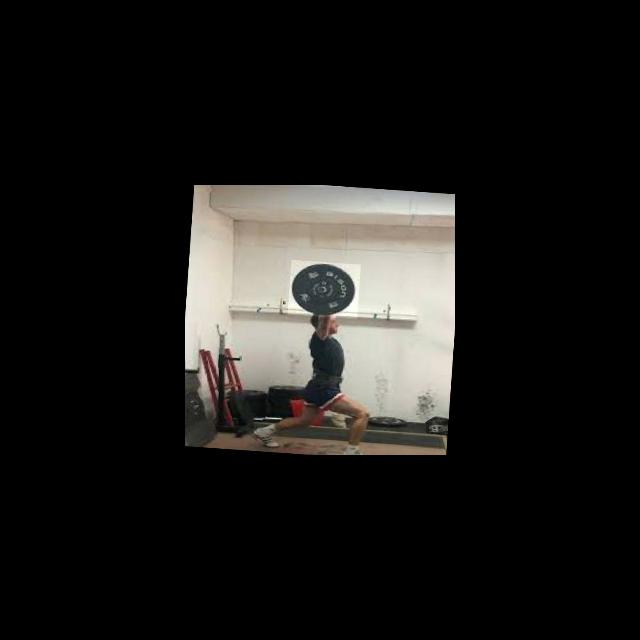barbell: (287, 260, 361, 319)
